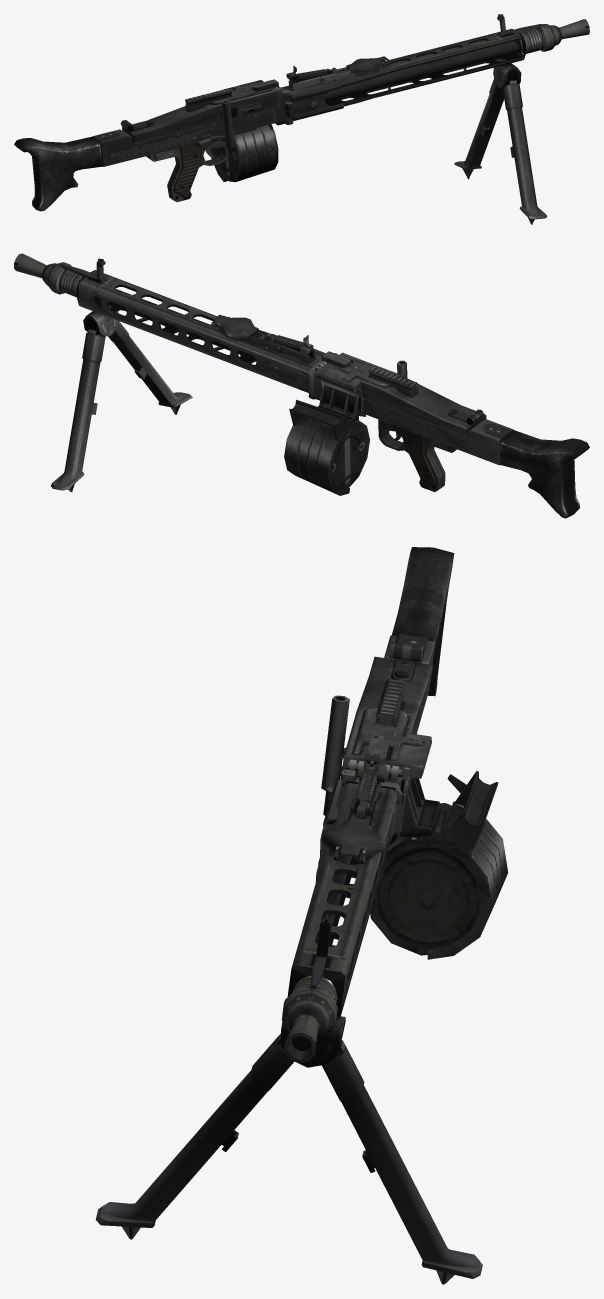
File: Weapon_3006.fbx
The picture shows the model from 3 angles, top to bottom: view 1: azimuth 30°, elevation 25°; view 2: azimuth 150°, elevation 25°; view 3: azimuth 270°, elevation 25°; orthographic projection. The views are drawn at different scales.
Visible parts, largest first — view 1: Weapon_3006_1, Weapon_3006_clip; view 2: Weapon_3006_1, Weapon_3006_clip; view 3: Weapon_3006_1, Weapon_3006_clip.
Boxes of the visible parts, x1,y1,x2,y2 form: Weapon_3006_1: (14,14,589,224); Weapon_3006_clip: (211,124,278,182); Weapon_3006_1: (14,253,589,518); Weapon_3006_clip: (284,399,369,495); Weapon_3006_1: (95,547,482,1284); Weapon_3006_clip: (370,771,508,959).
Size of the model in its own units: 162 by 53.35 by 53.72.
